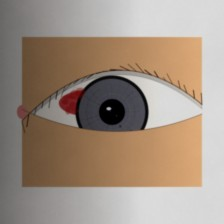hemorrhage_spot: (47, 67, 136, 139)
